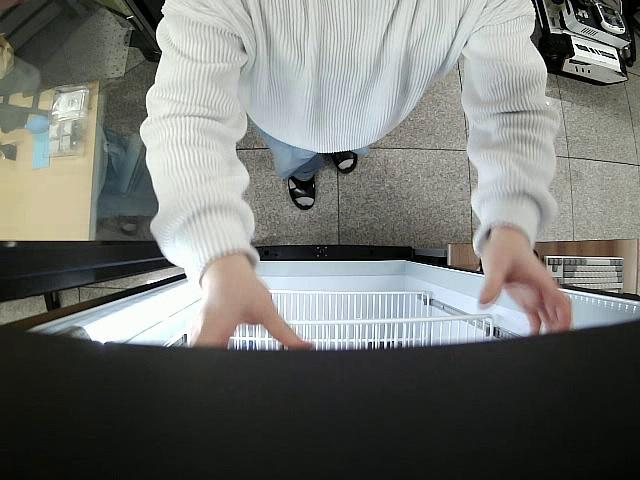00_hand: (479, 229, 574, 333), (197, 268, 314, 349)
